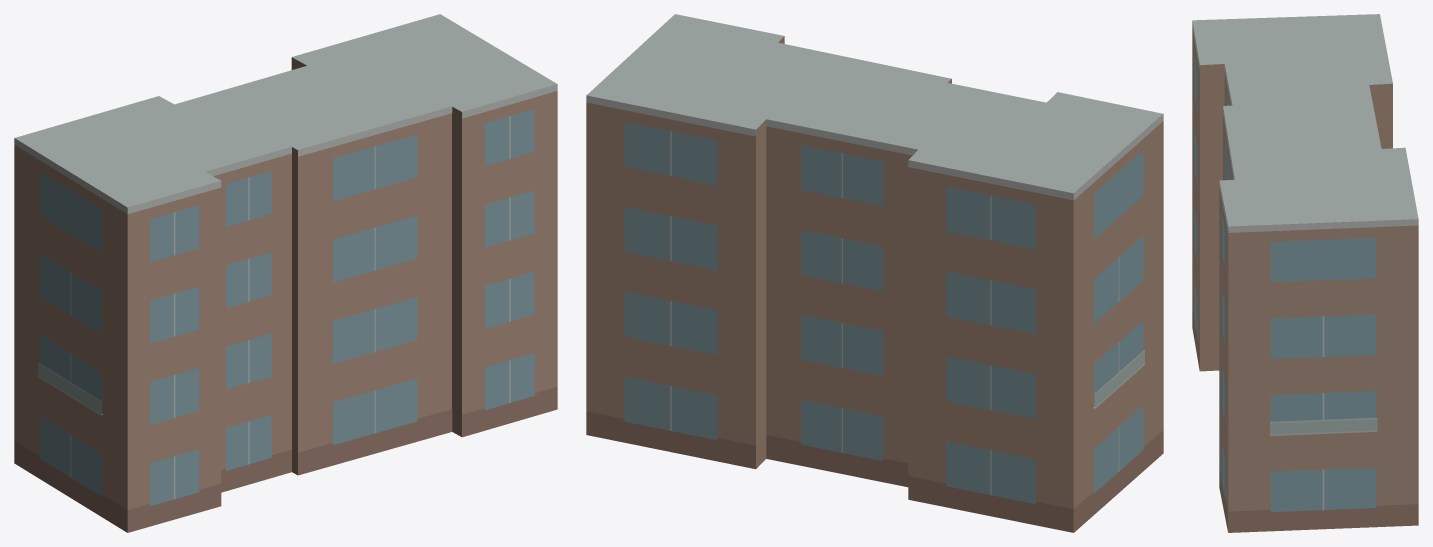
Rendered from survey-upis-33019751.glb.
3 views of the same model, side by side, from view 1: azimuth 30°, elevation 25°; view 2: azimuth 150°, elevation 25°; view 3: azimuth 270°, elevation 25° (orthographic). The views are drawn at different scales.
Parts seen in each view (by area): view 1: survey-upis-33019751.tmp; view 2: survey-upis-33019751.tmp; view 3: survey-upis-33019751.tmp.
Part boxes in pixels (x1,y1,x2,y2): survey-upis-33019751.tmp: (14,14,557,532); survey-upis-33019751.tmp: (586,14,1163,532); survey-upis-33019751.tmp: (1192,14,1418,532).
Bounding box in the file's own units: 17.57 × 11.8 × 7.91.
